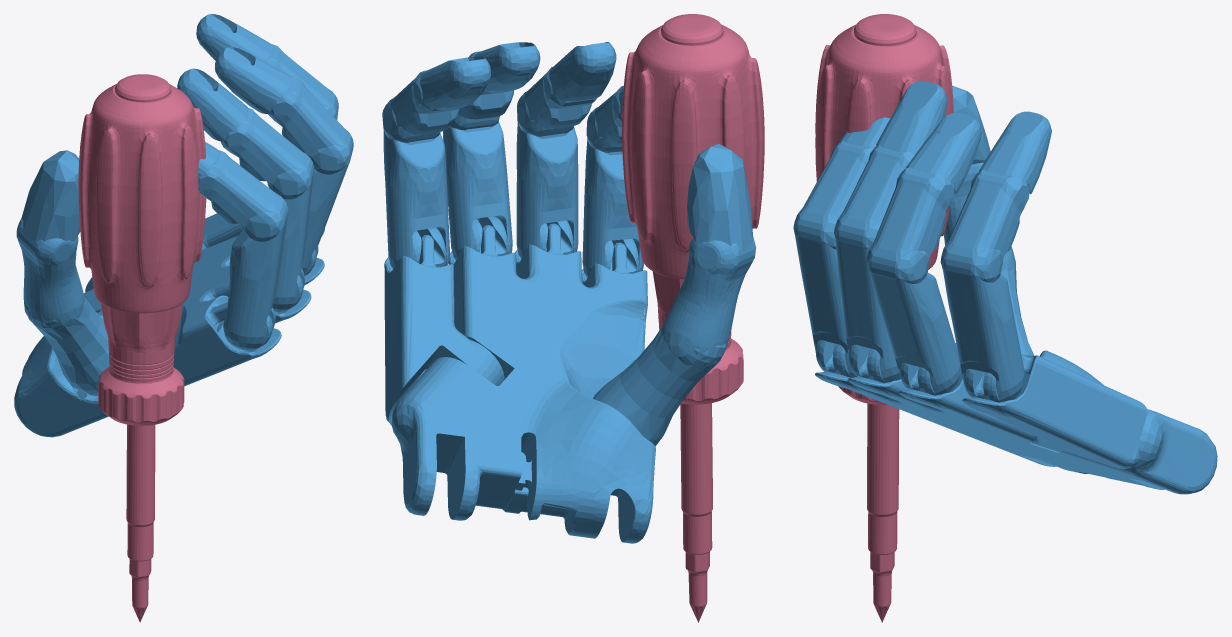
The picture shows the model from 3 angles, left to right: view 1: azimuth 30°, elevation 25°; view 2: azimuth 150°, elevation 25°; view 3: azimuth 270°, elevation 25°; orthographic projection. The views are drawn at different scales.
Parts seen in each view (by area): view 1: 1; view 2: 1; view 3: 1.
Boxes of the visible parts, <box> form: 1: <box>14,14,353,622</box>; 1: <box>382,14,764,622</box>; 1: <box>793,14,1217,622</box>.
Size of the model in its own units: 0.1326 by 0.2141 by 0.1367.
